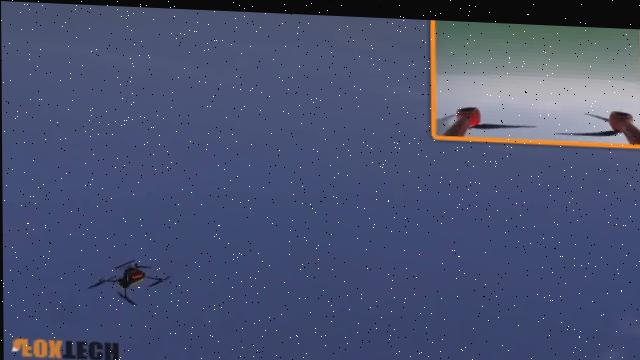drone: (82, 252, 173, 304)
